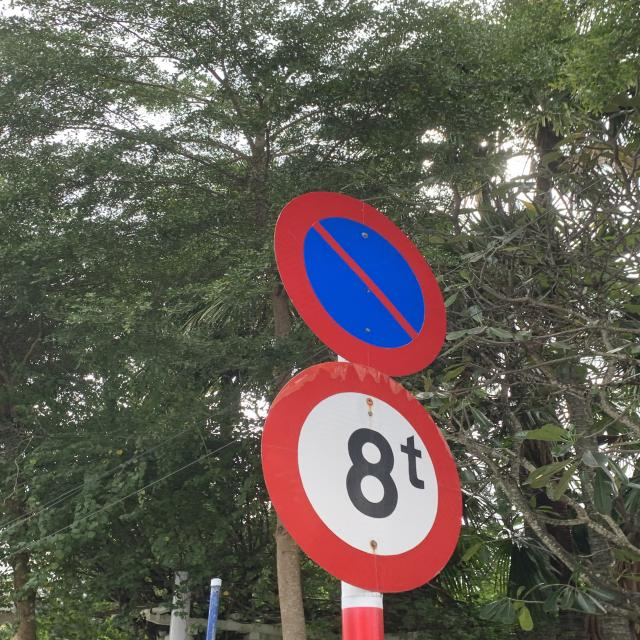Cam_Dau_Xe: (280, 186, 444, 373)
